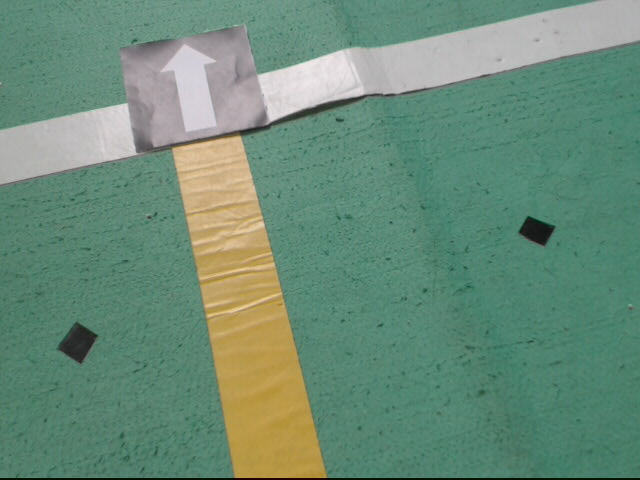straight: (119, 24, 270, 151)
